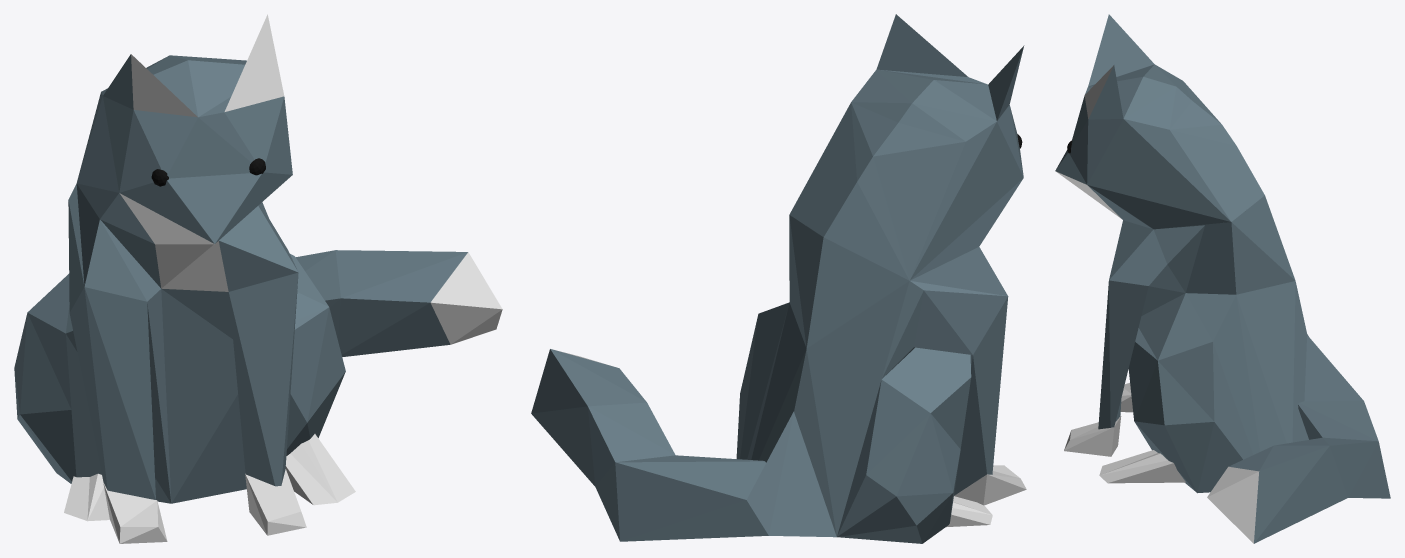
3 views of the same model, side by side, from view 1: azimuth 30°, elevation 25°; view 2: azimuth 150°, elevation 25°; view 3: azimuth 270°, elevation 25° (orthographic). The views are drawn at different scales.
Visible parts, largest first — view 1: node_MeshObject-1566441472-PolyPaper21; view 2: node_MeshObject-1566441472-PolyPaper21; view 3: node_MeshObject-1566441472-PolyPaper21.
Part boxes in pixels (bbox=[...]): node_MeshObject-1566441472-PolyPaper21: bbox=[14, 14, 502, 543]; node_MeshObject-1566441472-PolyPaper21: bbox=[531, 14, 1026, 543]; node_MeshObject-1566441472-PolyPaper21: bbox=[1055, 14, 1390, 543].
Bounding box in the file's own units: 0.464 × 0.4699 × 0.3646.
